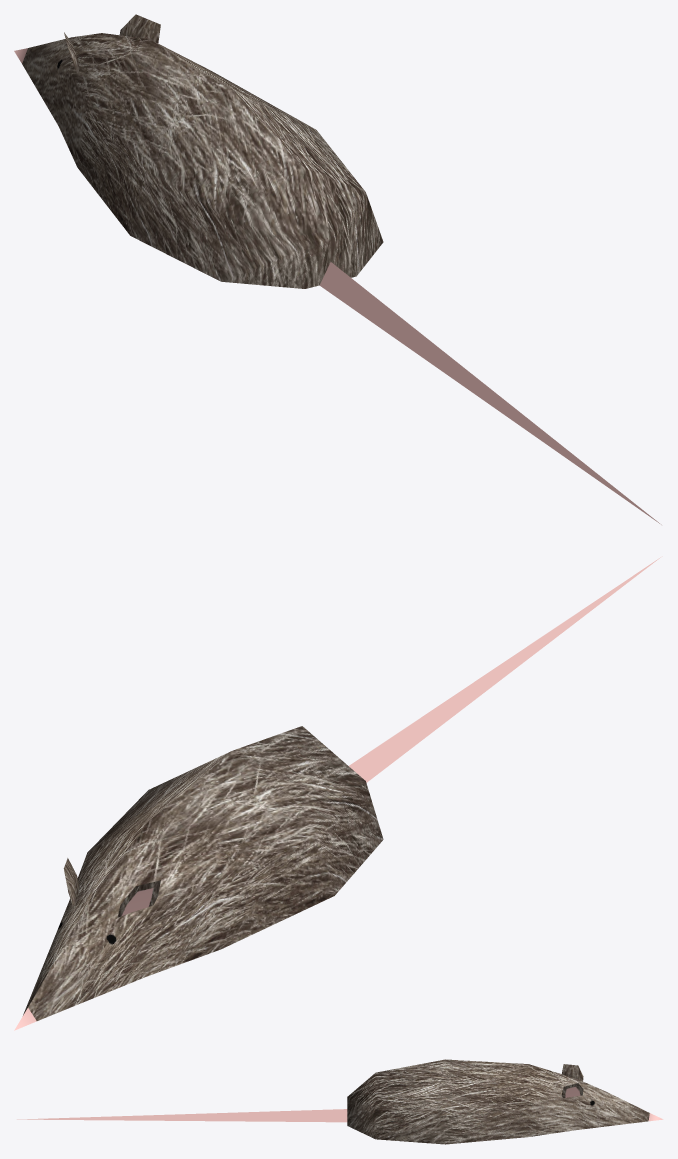
Rendered from rat.fbx.
3 renders of one model, top to bottom at view 1: azimuth 30°, elevation 25°; view 2: azimuth 150°, elevation 25°; view 3: azimuth 270°, elevation 25°, orthographic. The views are drawn at different scales.
Parts seen in each view (by area): view 1: rat; view 2: rat; view 3: rat.
Boxes of the visible parts, <box> form: rat: <box>14,14,661,524</box>; rat: <box>14,556,662,1030</box>; rat: <box>17,1059,663,1144</box>.
Size of the model in its own units: 28.41 by 15.97 by 156.
Materials: 1 (1 with a texture image).
